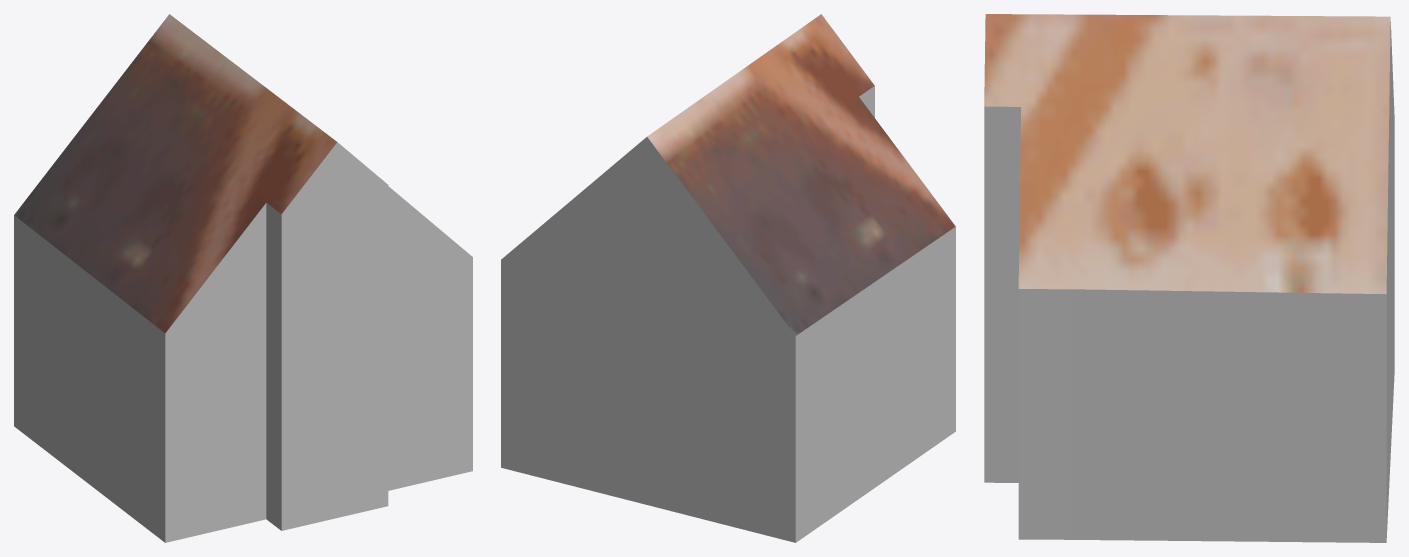
File: DEBW_0010007Txen.gltf
3 renders of one model, left to right at view 1: azimuth 30°, elevation 25°; view 2: azimuth 150°, elevation 25°; view 3: azimuth 270°, elevation 25°, orthographic. The views are drawn at different scales.
Parts seen in each view (by area): view 1: Z_UP; view 2: Z_UP; view 3: Z_UP.
Boxes of the visible parts, <box> form: Z_UP: <box>14,14,472,542</box>; Z_UP: <box>501,14,955,542</box>; Z_UP: <box>984,14,1394,542</box>.
Bounding box in the file's own units: 10.24 × 11.86 × 10.02.
Materials: 2 (1 with a texture image).
